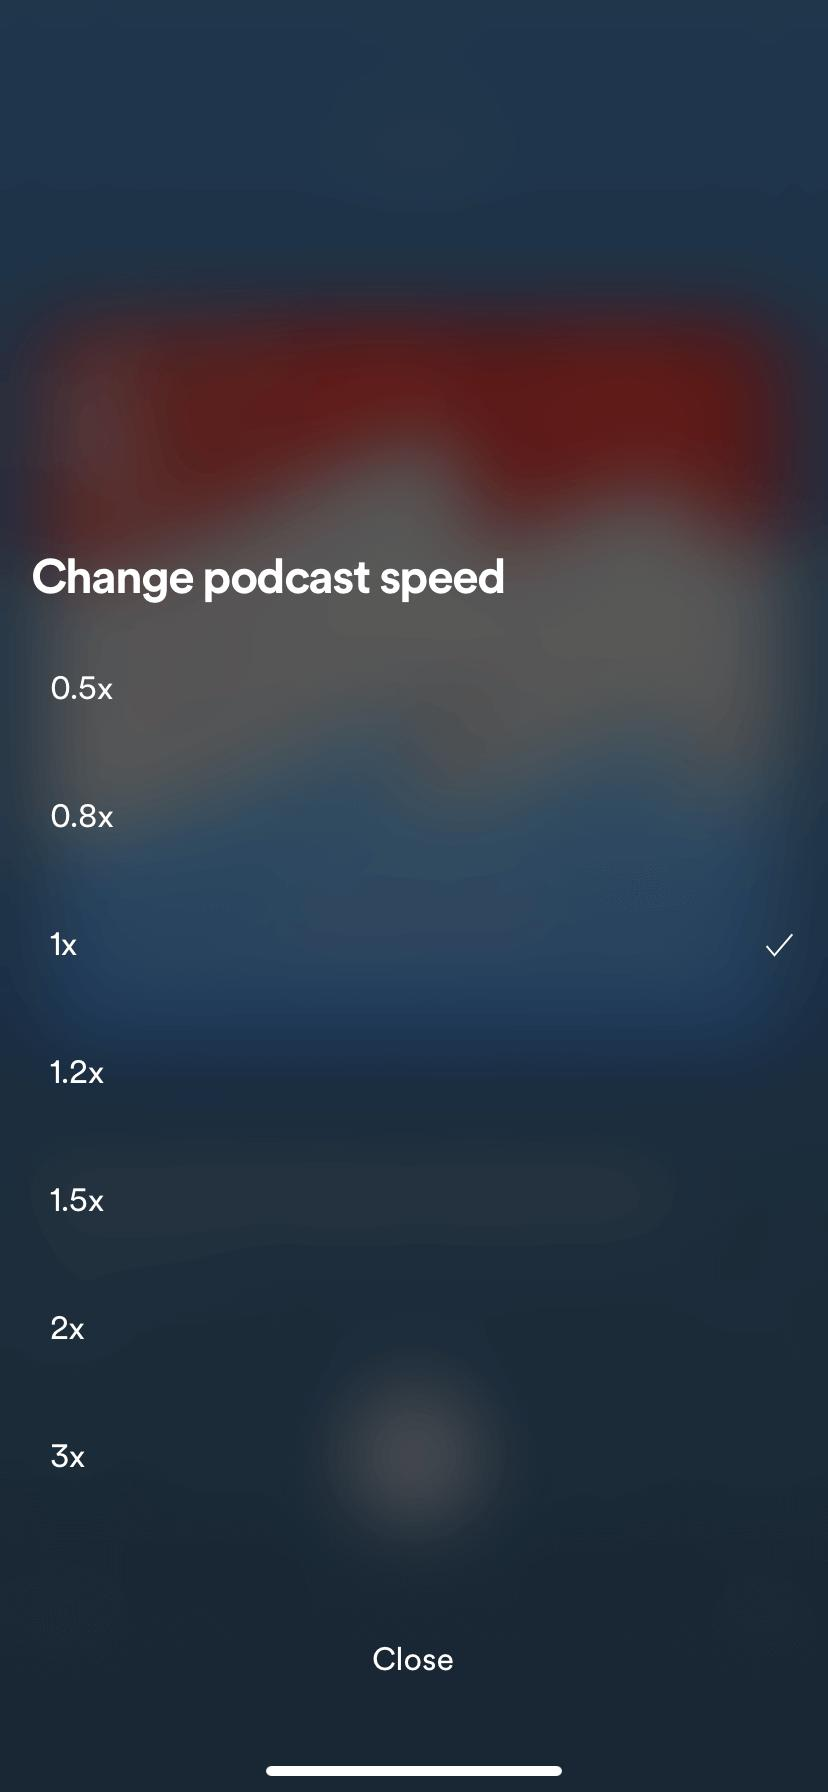Buttons: (318, 1614, 520, 1693)
Checkboxes: (750, 917, 807, 977)
